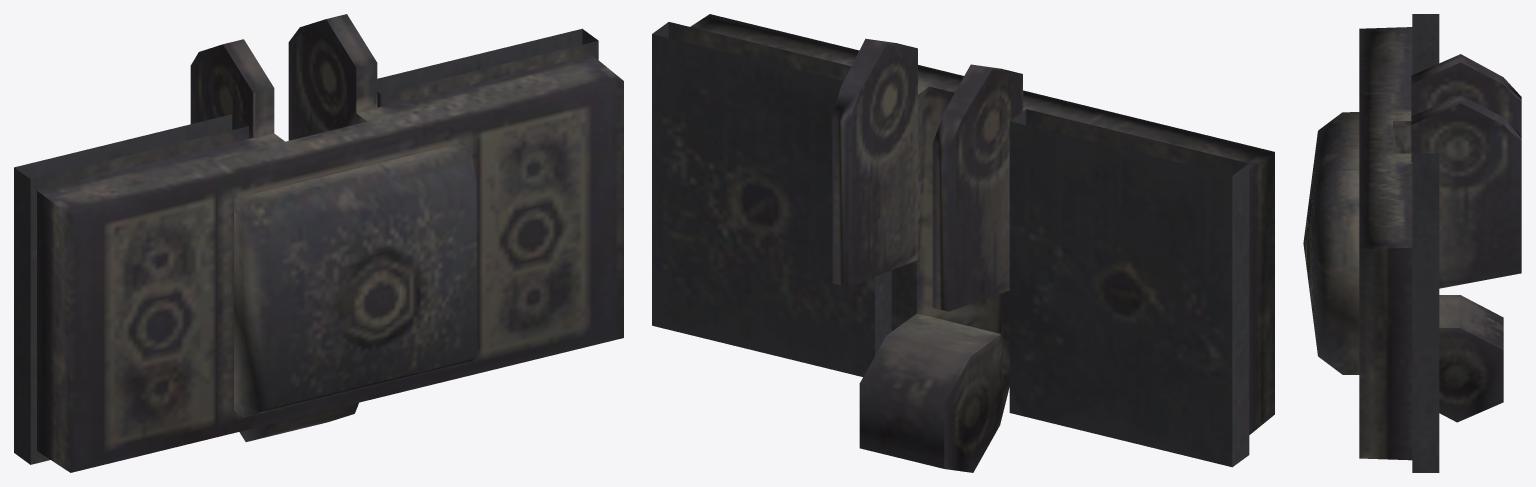
The picture shows the model from 3 angles, left to right: view 1: azimuth 30°, elevation 25°; view 2: azimuth 150°, elevation 25°; view 3: azimuth 270°, elevation 25°; orthographic projection. The views are drawn at different scales.
Parts seen in each view (by area): view 1: set_0_group_0; view 2: set_0_group_0; view 3: set_0_group_0.
Boxes of the visible parts, box(x1,y1,x2,y2) form: set_0_group_0: box(14, 14, 623, 472); set_0_group_0: box(652, 14, 1274, 472); set_0_group_0: box(1303, 14, 1521, 472).
Bounding box in the file's own units: 0.2704 × 0.1825 × 0.1102.
1 material, 1 textured.
